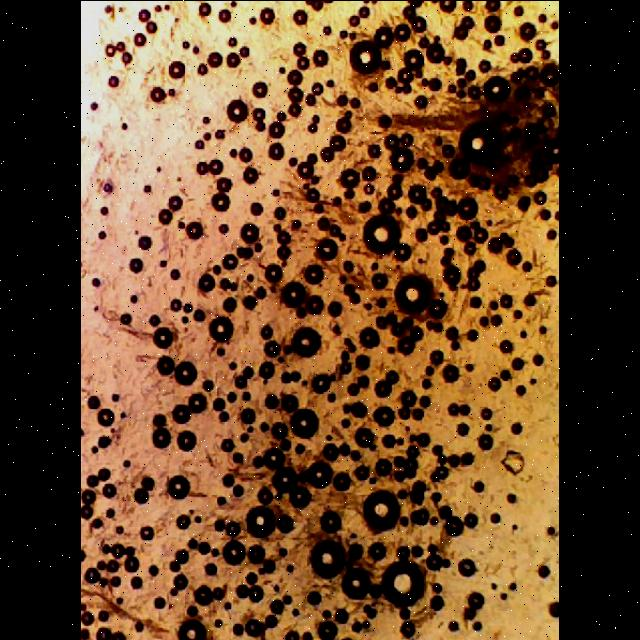microbeads: (378, 556, 428, 606), (460, 116, 502, 166), (391, 272, 437, 314), (360, 212, 404, 254), (366, 482, 402, 532), (312, 538, 348, 580), (244, 501, 276, 542), (350, 39, 384, 73), (292, 406, 322, 436), (176, 618, 210, 640)
